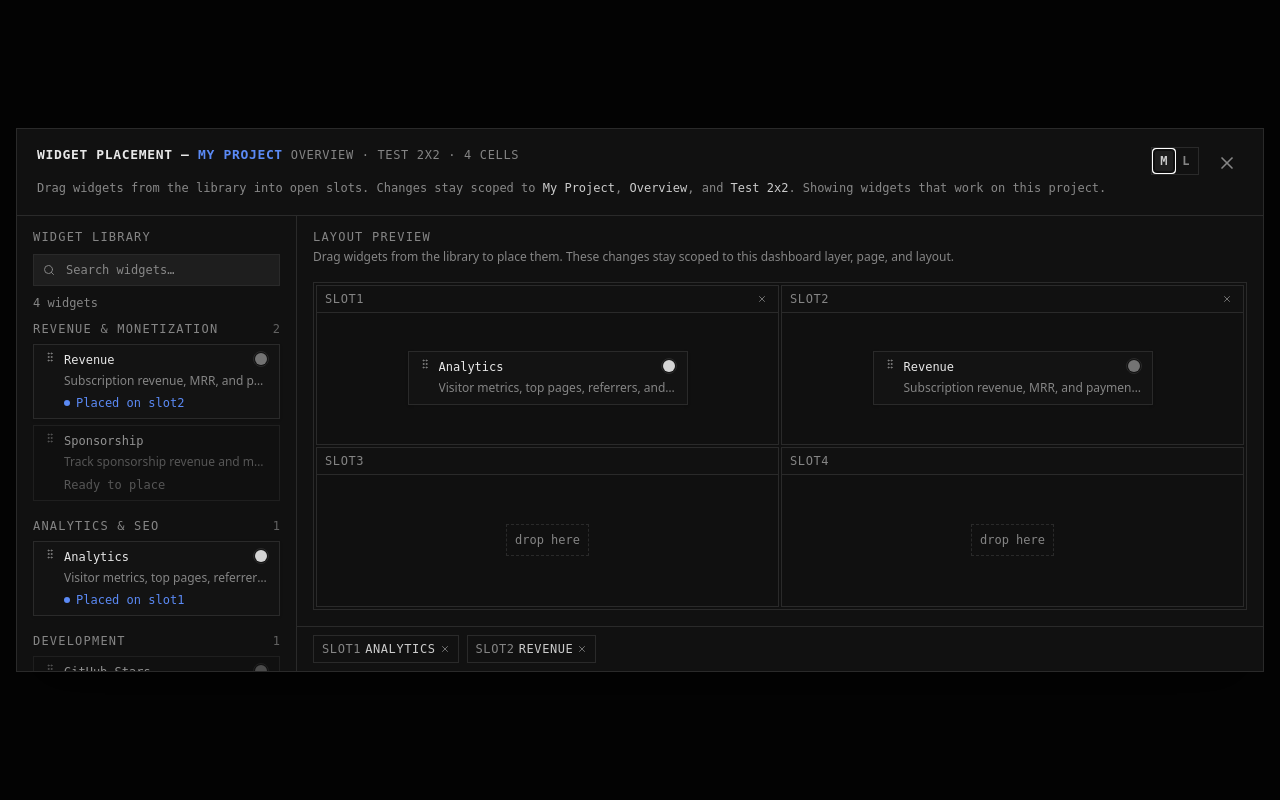
it: ProjectWidgetPlacementModal › shows remove confirmation when clicking X on a cell
The image size is (1280, 800).
Step 1. Click the button named "Remove Analytics from slot1" → (762, 298), box [754, 290, 770, 306]
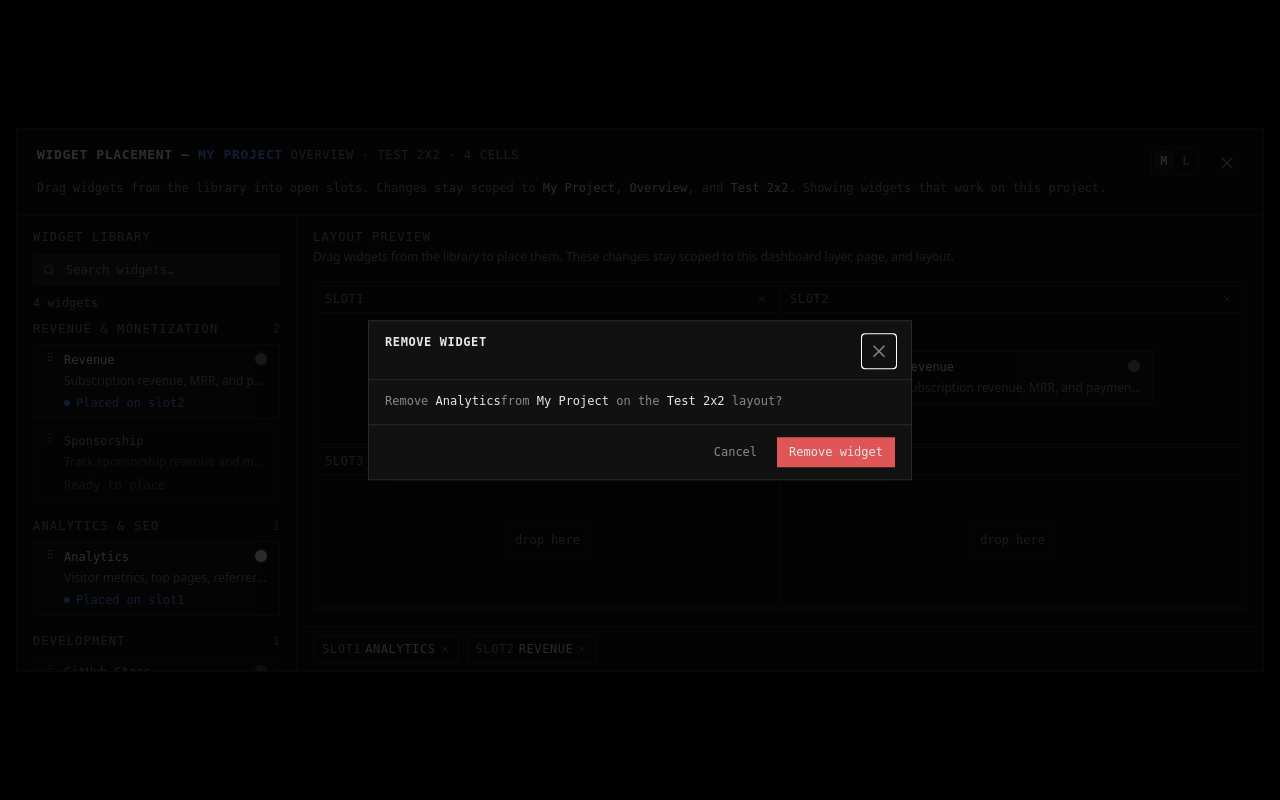
expect the button "Remove widget" is shown: met, box [777, 437, 895, 467]
expect the button "Cancel" is shown: met, box [702, 437, 769, 467]
